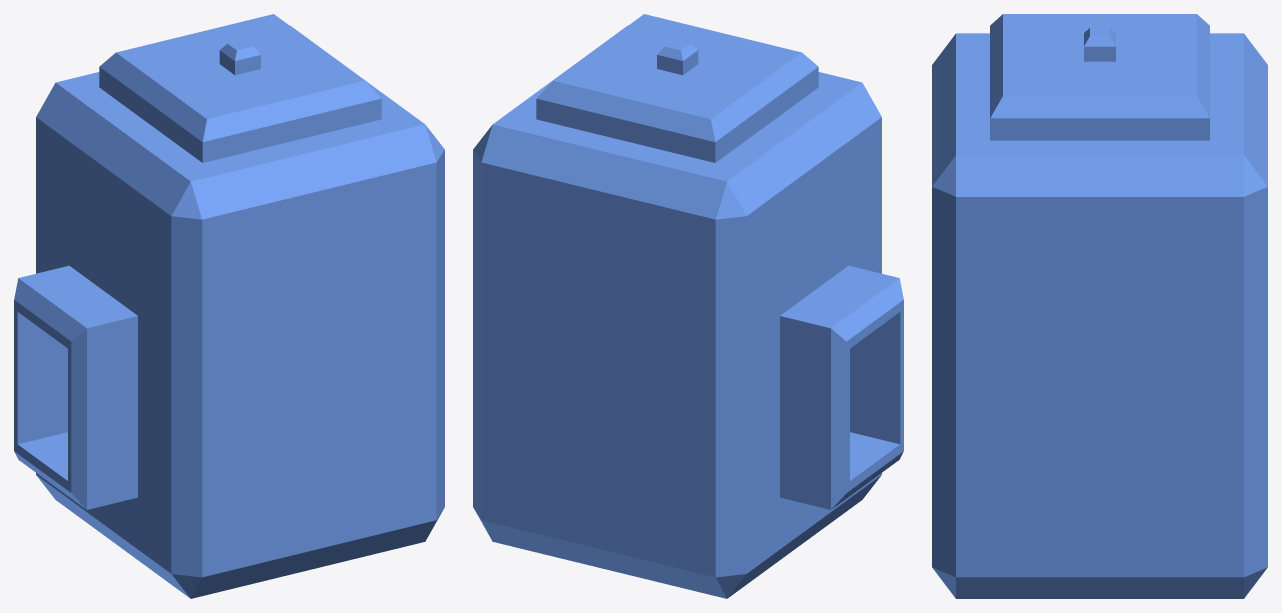
File: player.obj
The picture shows the model from 3 angles, left to right: view 1: azimuth 30°, elevation 25°; view 2: azimuth 150°, elevation 25°; view 3: azimuth 270°, elevation 25°; orthographic projection. The views are drawn at different scales.
Visible parts, largest first — view 1: Cube.001; view 2: Cube.001; view 3: Cube.001.
Part boxes in pixels (box(x1,y1,x2,y2)): Cube.001: box(14, 14, 444, 598); Cube.001: box(473, 14, 903, 598); Cube.001: box(932, 14, 1267, 598).
Size of the model in its own units: 1.47 by 1.99 by 1.2.
Materials: 1 (1 with a texture image).
